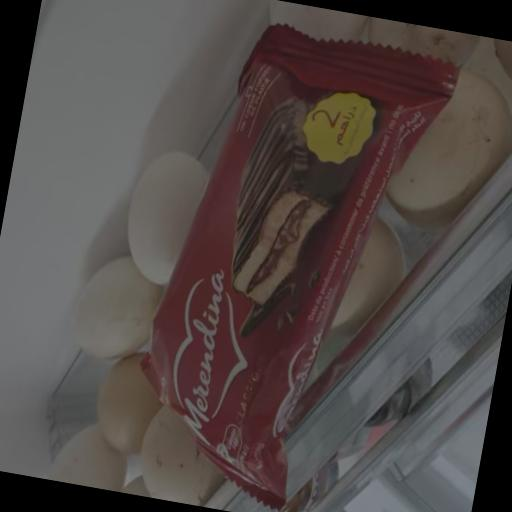merendina: (118, 2, 467, 512)
